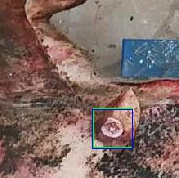text: (93, 108, 132, 147)
